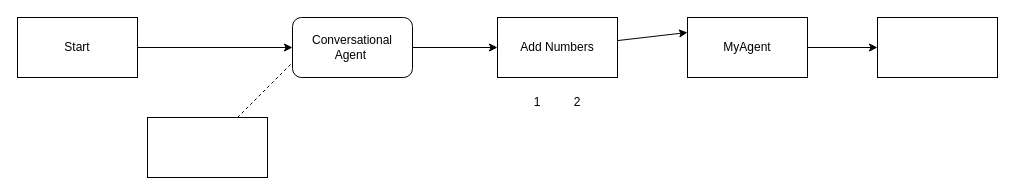
The diagram is 1015 pixels wide and 195 high, and some of its shapes have lost their labels. Here are the shapes that lost their labels. From the top down, the centre of each, then its label:
At point (937, 47): "MyOrchestrator".
At point (207, 147): "Buffer Memory".
